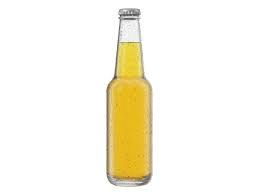Glass bottle: (93, 2, 163, 194)
